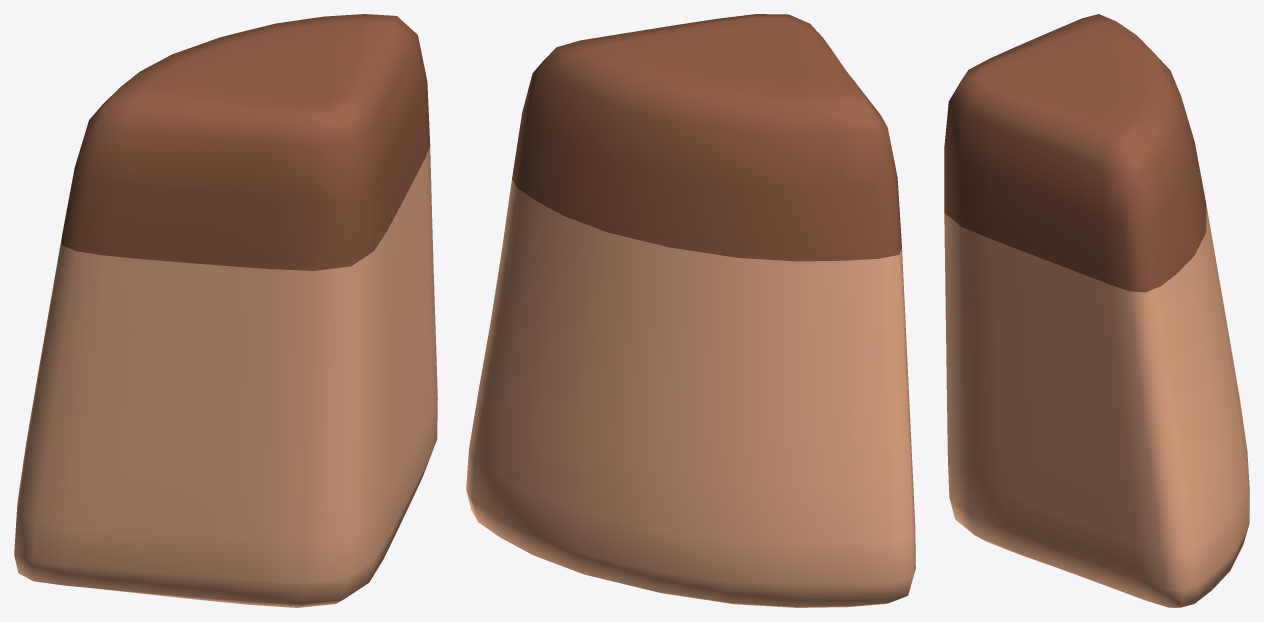
Rendered from Pudding_A_03.fbx.
The picture shows the model from 3 angles, left to right: view 1: azimuth 30°, elevation 25°; view 2: azimuth 150°, elevation 25°; view 3: azimuth 270°, elevation 25°; orthographic projection. The views are drawn at different scales.
Parts seen in each view (by area): view 1: Pudding_A_03_LOD0; view 2: Pudding_A_03_LOD0; view 3: Pudding_A_03_LOD0.
Part boxes in pixels (x1,y1,x2,y2): Pudding_A_03_LOD0: (14, 14, 437, 607); Pudding_A_03_LOD0: (466, 14, 915, 607); Pudding_A_03_LOD0: (944, 14, 1249, 607).
Size of what is drawn, in the model's own units: 353 by 379 by 233.
